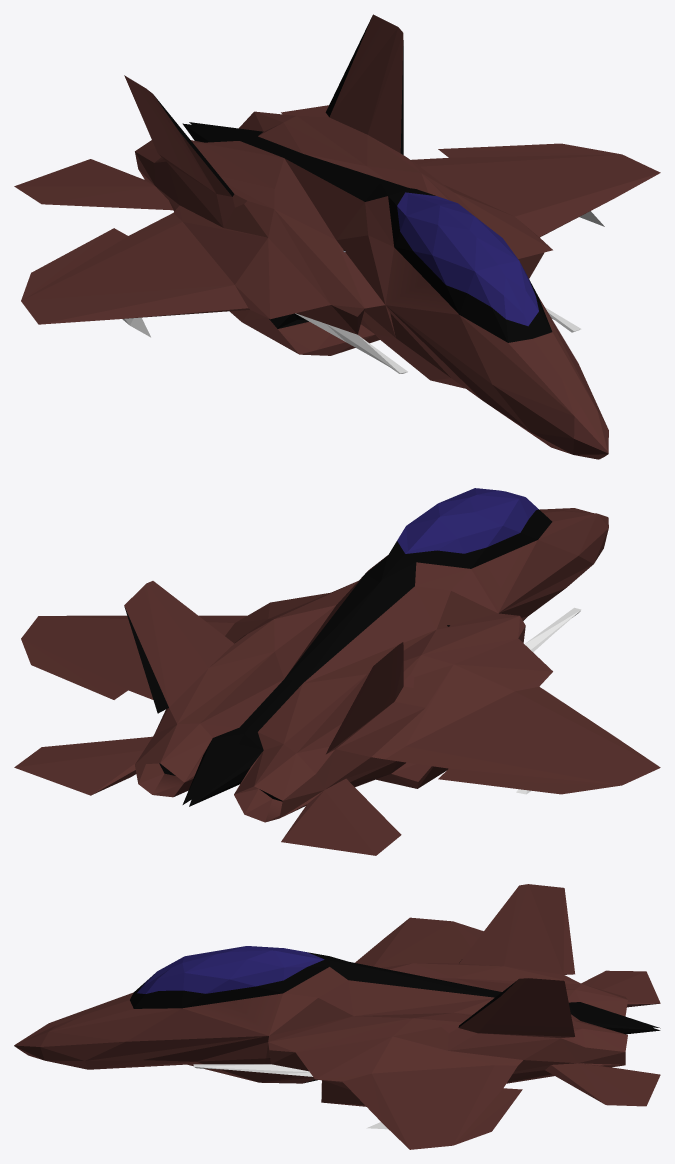
File: CrimsonHawk.fbx
The picture shows the model from 3 angles, top to bottom: view 1: azimuth 30°, elevation 25°; view 2: azimuth 150°, elevation 25°; view 3: azimuth 270°, elevation 25°; orthographic projection. The views are drawn at different scales.
Visible parts, largest first — view 1: Mesh1.0; view 2: Mesh1.0; view 3: Mesh1.0.
Boxes of the visible parts, x1=… form: Mesh1.0: x1=14, y1=14, x2=660, y2=459; Mesh1.0: x1=14, y1=488, x2=660, y2=855; Mesh1.0: x1=14, y1=884, x2=660, y2=1149.
Bounding box in the file's own units: 271 × 82.58 × 319.
